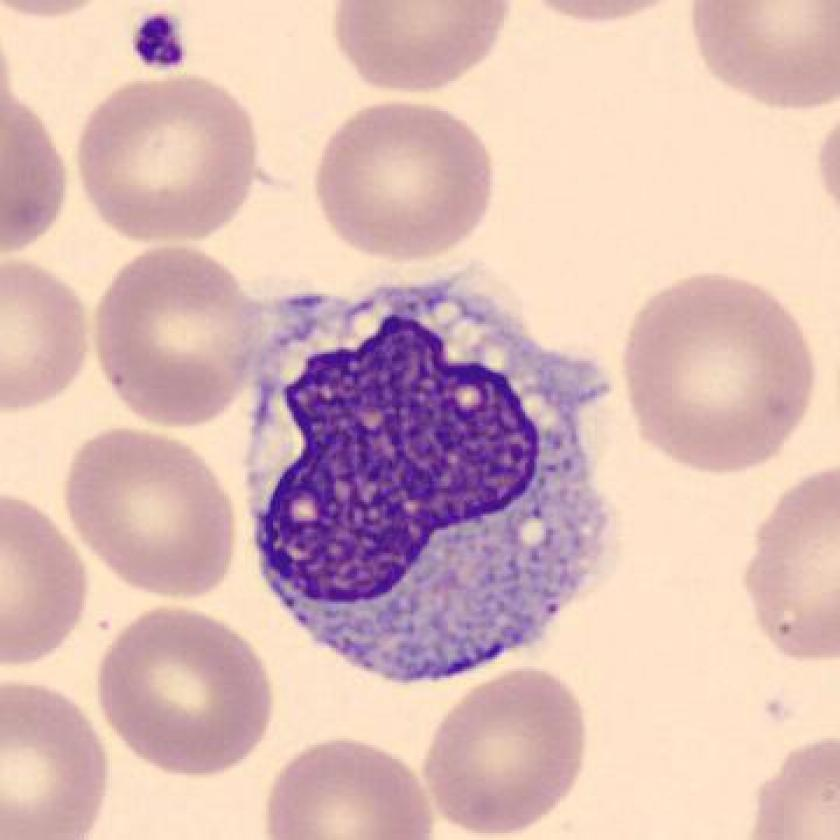monocyte: (216, 263, 629, 698)
